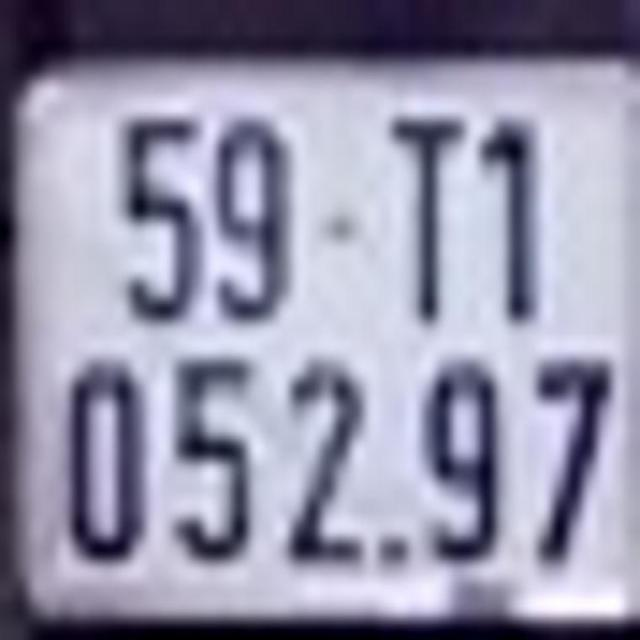0: (67, 354, 152, 565)
1: (483, 110, 544, 320)
2: (283, 356, 369, 564)
5: (117, 108, 195, 324), (172, 352, 248, 562)
7: (524, 339, 616, 568)
9: (210, 111, 290, 320), (423, 347, 497, 567)
T: (390, 107, 461, 319)
